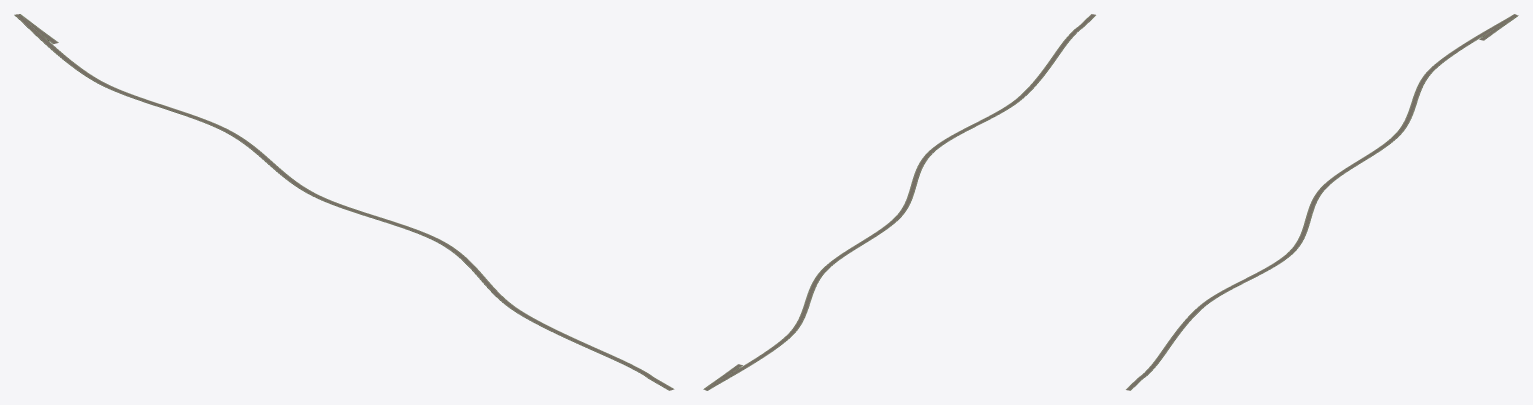
File: road_roam_to_stage_autumn_glen.glb
3 renders of one model, left to right at view 1: azimuth 30°, elevation 25°; view 2: azimuth 150°, elevation 25°; view 3: azimuth 330°, elevation 25°, orthographic. The views are drawn at different scales.
Parts seen in each view (by area): view 1: road; view 2: road; view 3: road.
Part boxes in pixels (x1,y1,x2,y2): road: (14,14,674,390); road: (703,14,1095,390); road: (1126,14,1518,390).
Size of the model in its own units: 266 by 0.32 by 2084.
